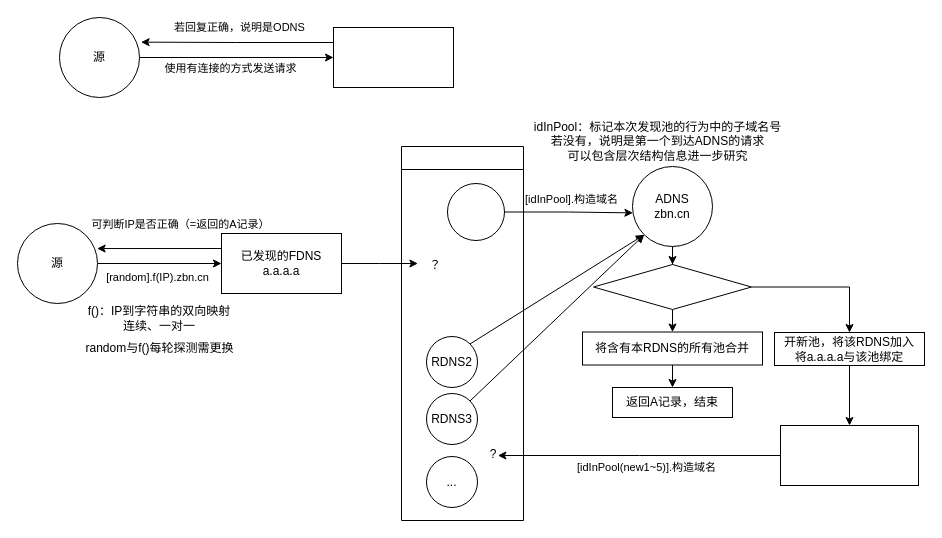
Some shapes in this 942 by 538 pixel diagram are drawn without their labels. The box of each missing label's shape, as (x1, y1, x2, y2) in pixels:
IP空间 （除约减部分）: (332, 26, 454, 88)
RDNS1: (446, 182, 504, 240)
RDNS池: (400, 146, 524, 520)
属于已有RDNS池？: (592, 264, 752, 310)
挑选5个新的idInPool 生成5个新域名 返回CNAME: (780, 424, 918, 486)
